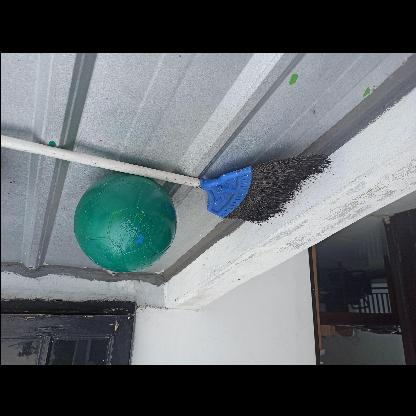green_ball: (70, 172, 174, 276)
